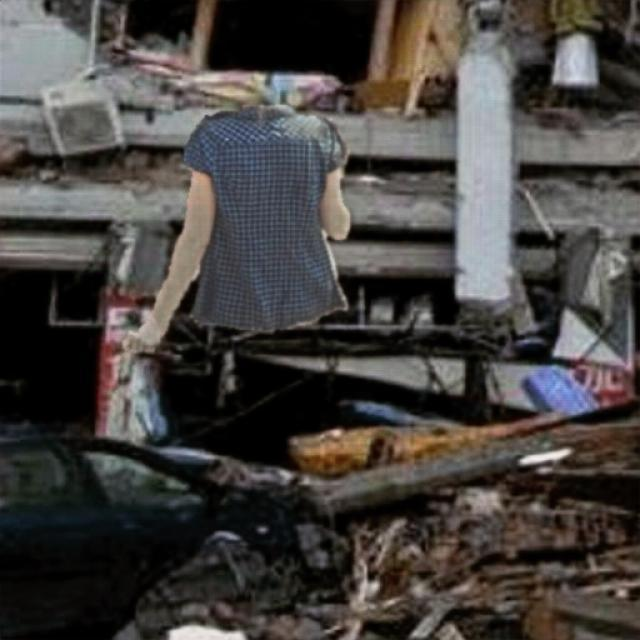Person in Rubble: (122, 104, 348, 352)
